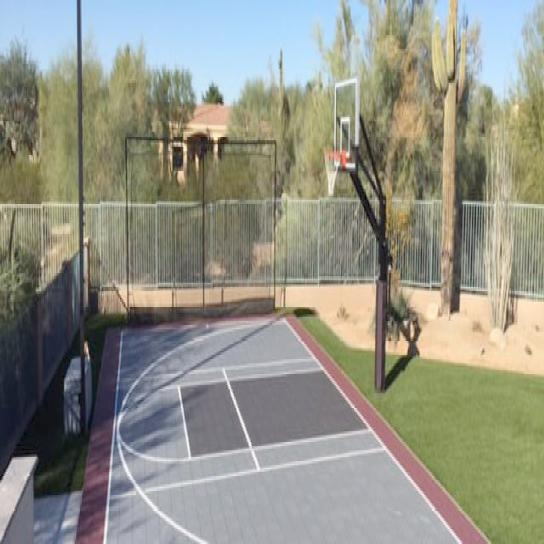basketball-hoop: (322, 146, 342, 201)
